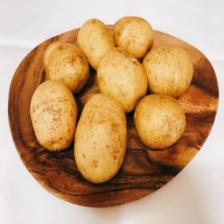Potato: (74, 91, 128, 183), (30, 78, 77, 152), (96, 48, 148, 113), (135, 92, 187, 149), (141, 45, 194, 97), (42, 39, 91, 95), (78, 18, 118, 73), (113, 14, 154, 58)
